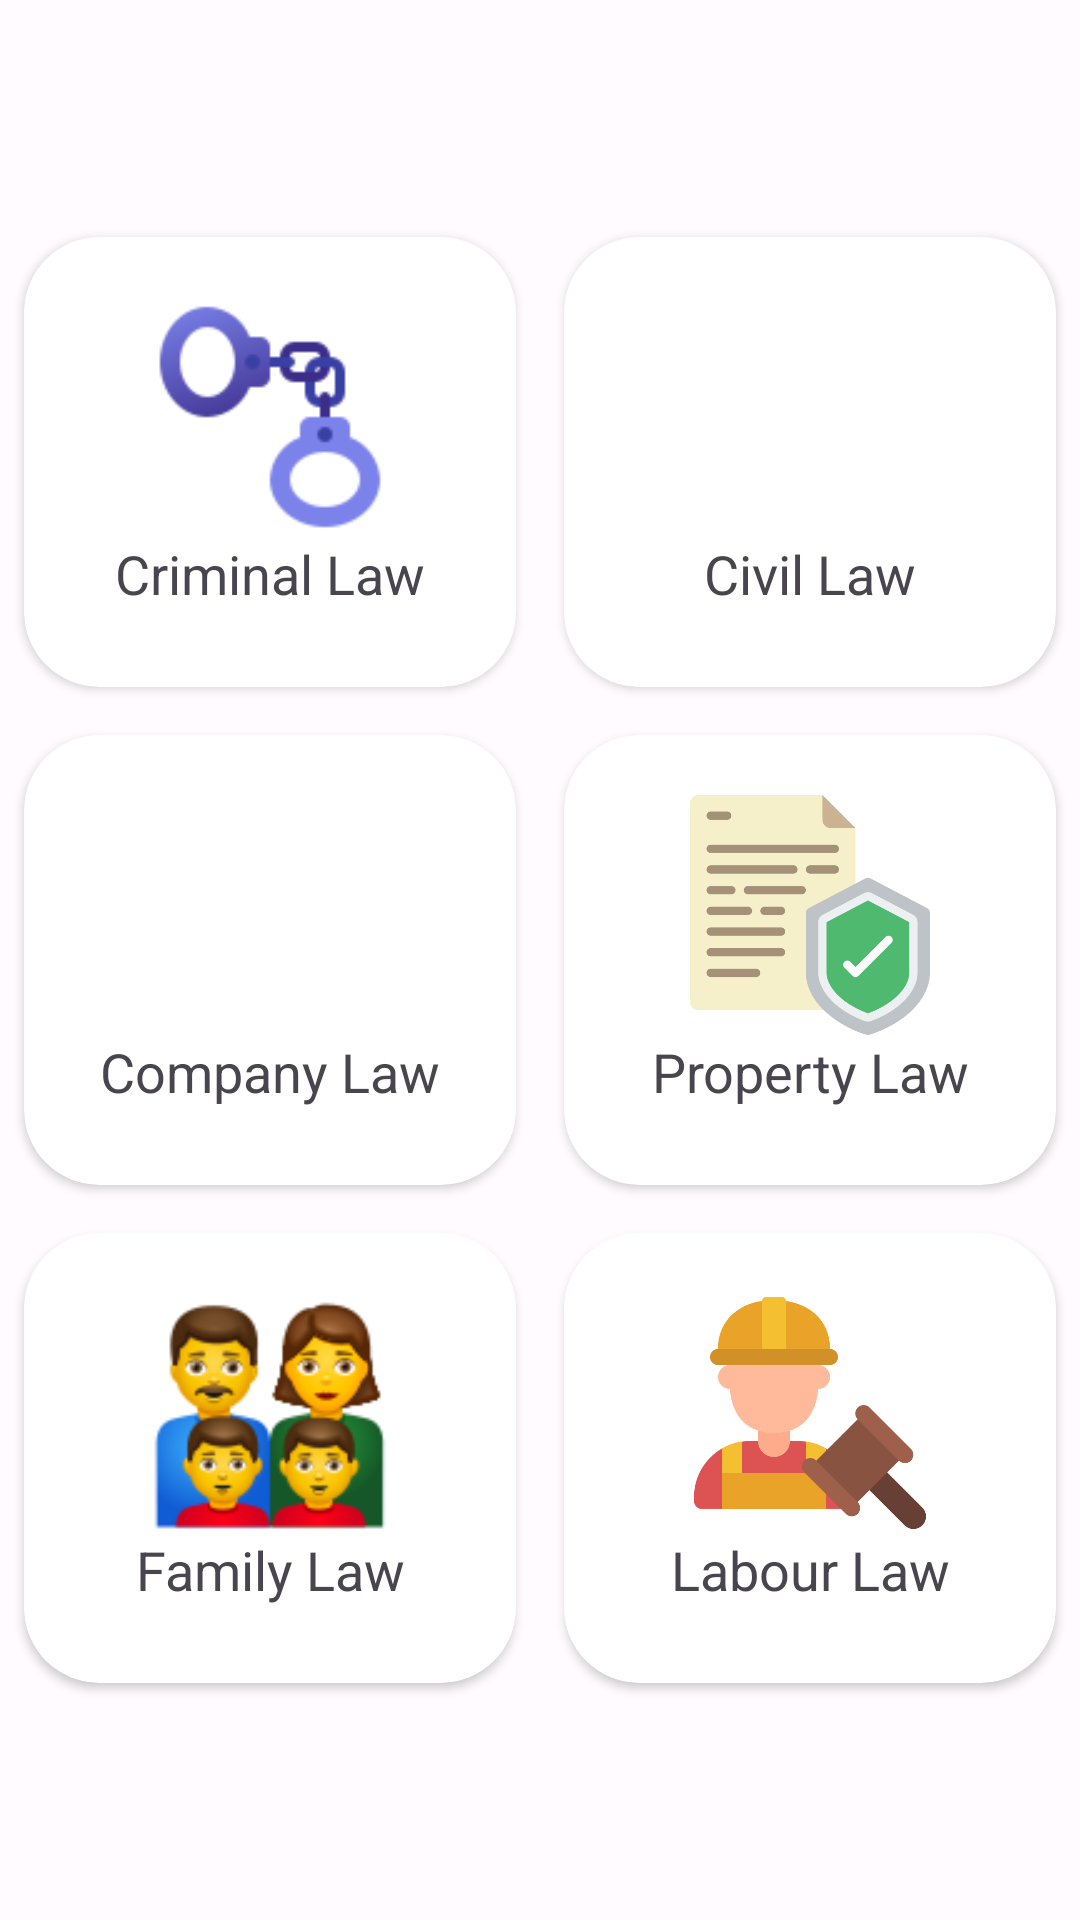

Named icons in this screenshot (1080x1920) and their centers, [x,y]:
handcuffs: [270,417]
